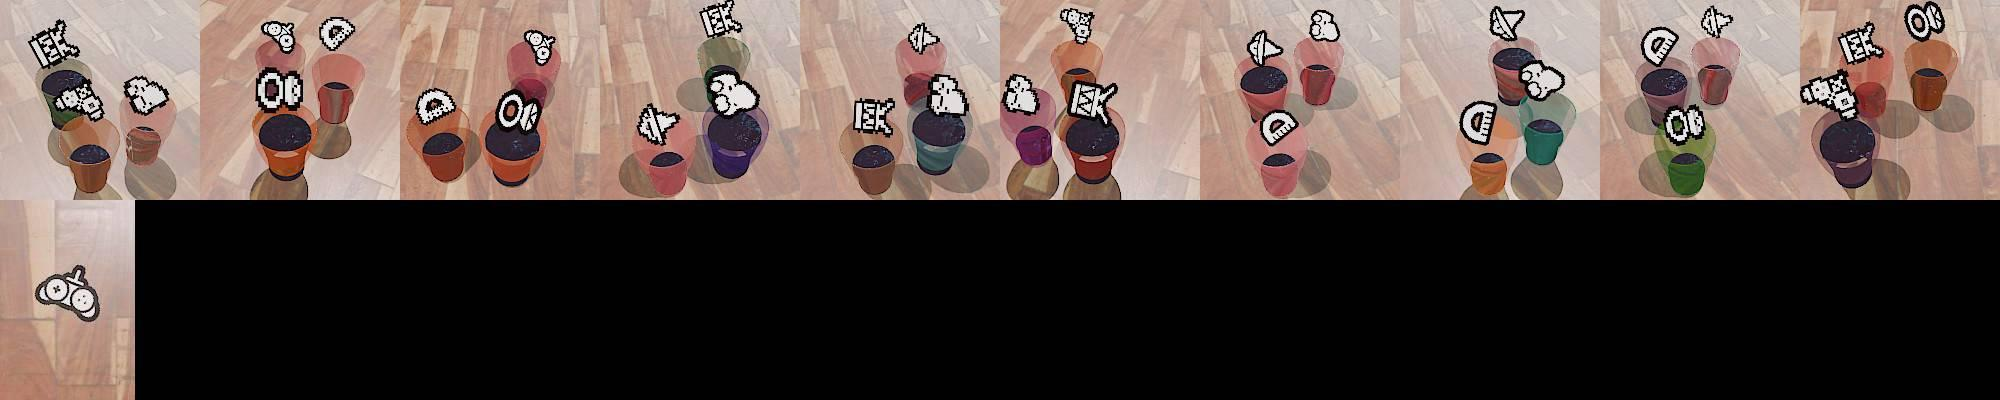icon: (34, 262, 102, 325), (1798, 71, 1860, 120), (705, 66, 761, 118), (27, 17, 80, 70), (254, 66, 306, 116), (1064, 76, 1117, 124), (494, 87, 542, 134), (52, 82, 106, 122), (1837, 20, 1884, 65), (1518, 57, 1566, 101), (635, 101, 681, 145), (122, 74, 170, 116), (1663, 102, 1707, 146), (1459, 98, 1499, 146), (927, 73, 968, 118), (852, 96, 895, 138), (698, 0, 741, 41), (1640, 24, 1680, 69), (1903, 3, 1945, 42), (413, 87, 457, 125), (1003, 73, 1041, 115), (1245, 29, 1284, 68), (1260, 108, 1298, 146), (1059, 6, 1096, 45), (319, 15, 356, 52), (260, 20, 298, 56), (523, 28, 557, 66), (907, 20, 941, 55), (1490, 6, 1526, 39), (1700, 5, 1733, 38), (1309, 9, 1341, 43)
